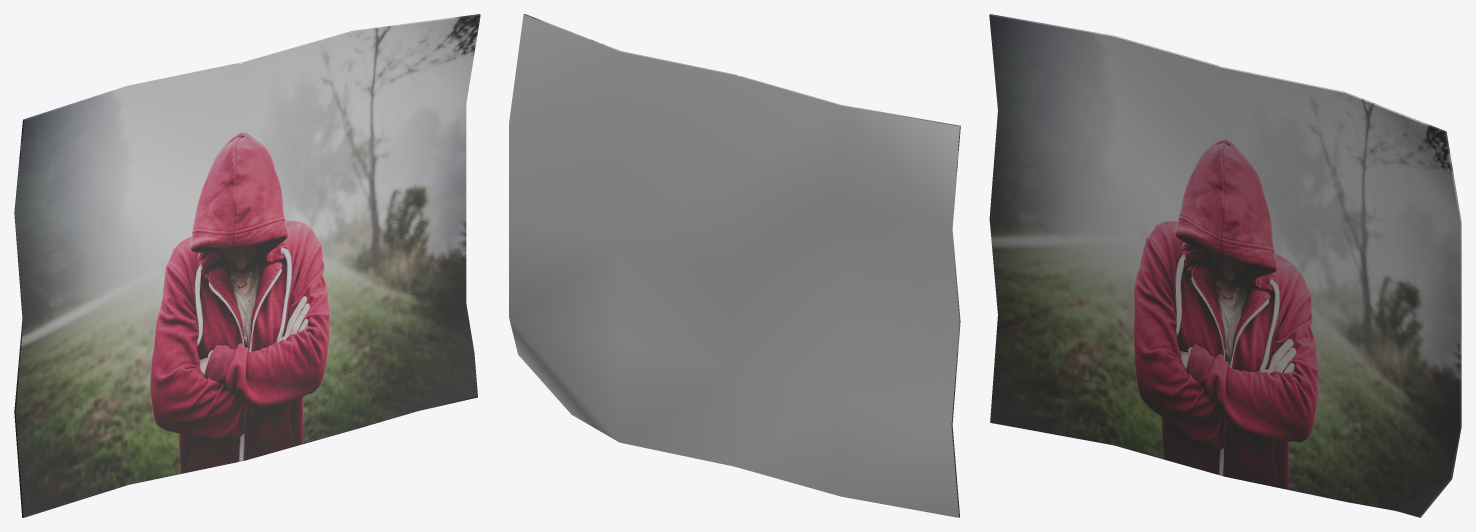
Rendered from Poster.FBX.
3 views of the same model, side by side, from view 1: azimuth 30°, elevation 25°; view 2: azimuth 150°, elevation 25°; view 3: azimuth 330°, elevation 25° (orthographic). The views are drawn at different scales.
Parts seen in each view (by area): view 1: Poster 1; view 2: Poster 1; view 3: Poster 1.
Boxes of the visible parts, x1,y1,x2,y2 form: Poster 1: [14, 14, 480, 517]; Poster 1: [509, 14, 960, 517]; Poster 1: [989, 14, 1461, 517].
Size of the model in its own units: 90.45 by 76.38 by 9.35.
Materials: 1 (1 with a texture image).
